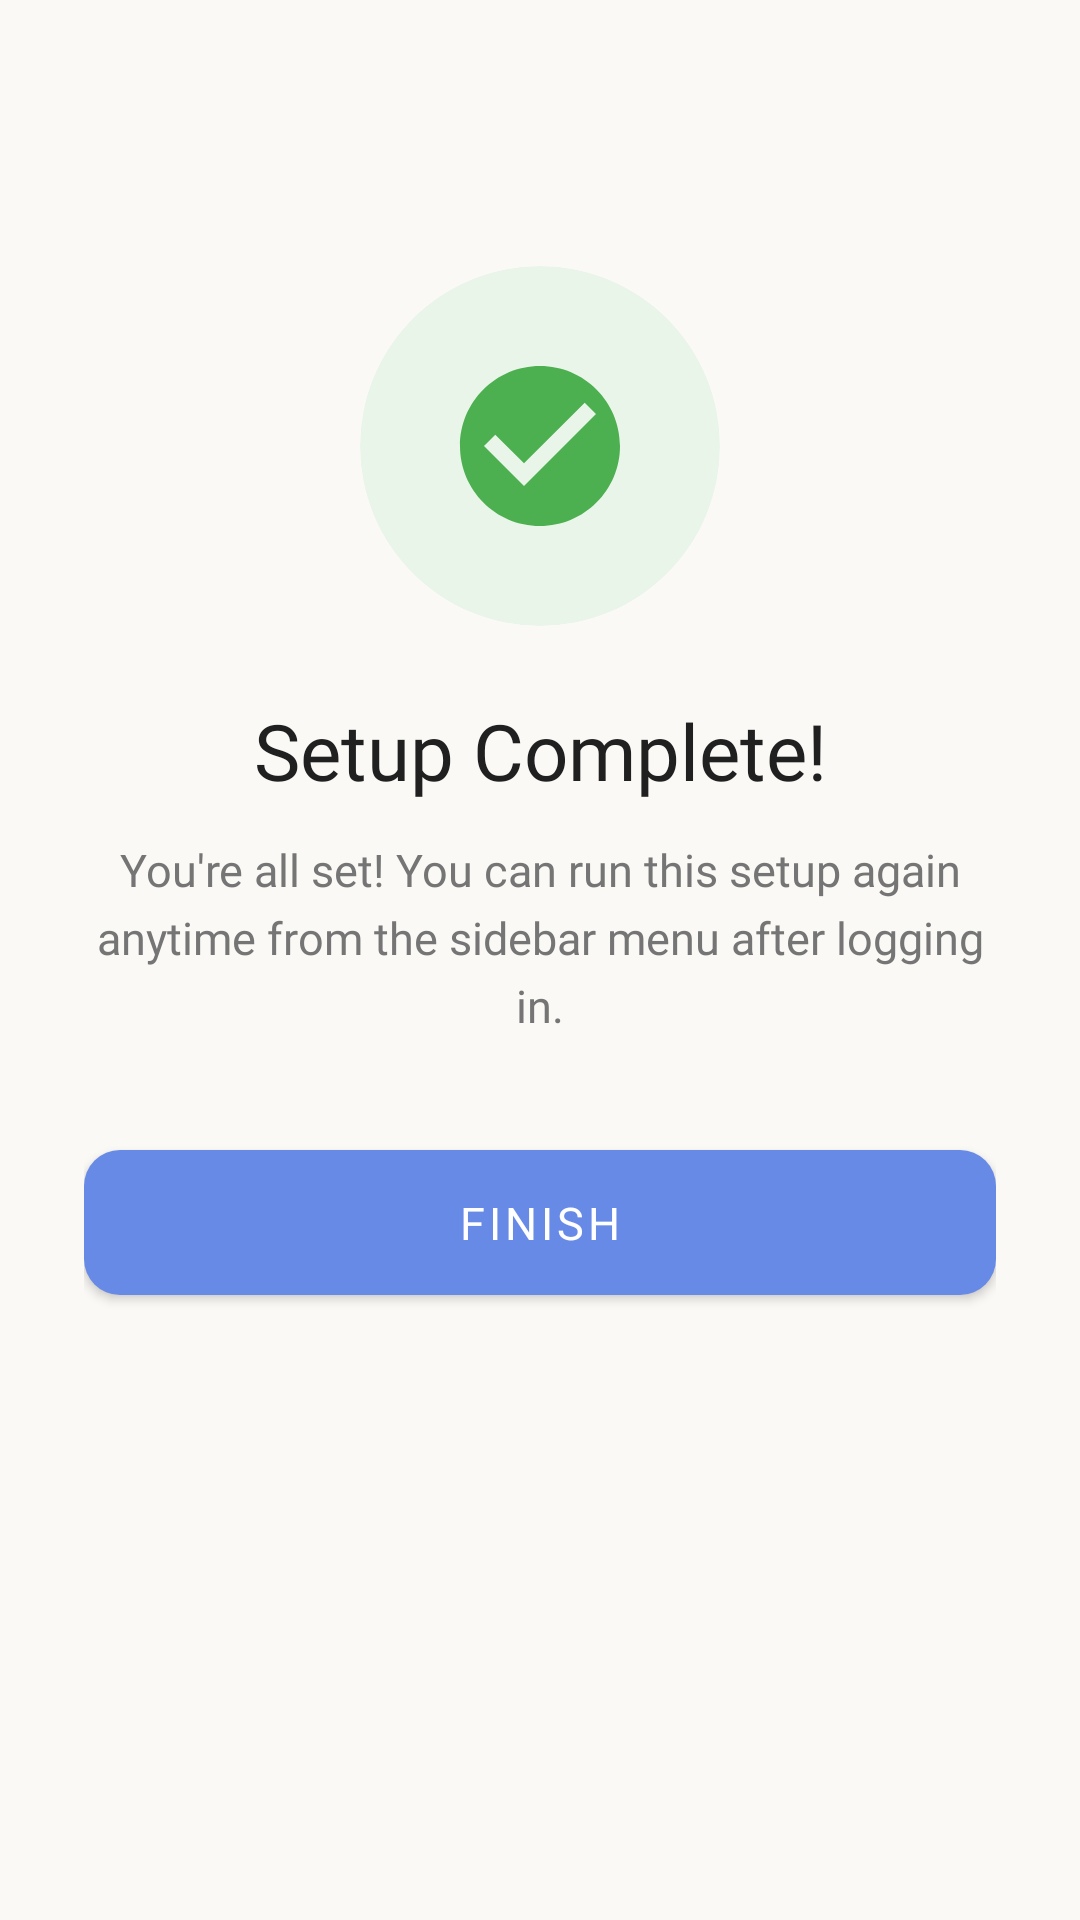

Named icons in this screenshot (1080 × 1920) and their centers, [x,y]:
check circle: [540,446]
